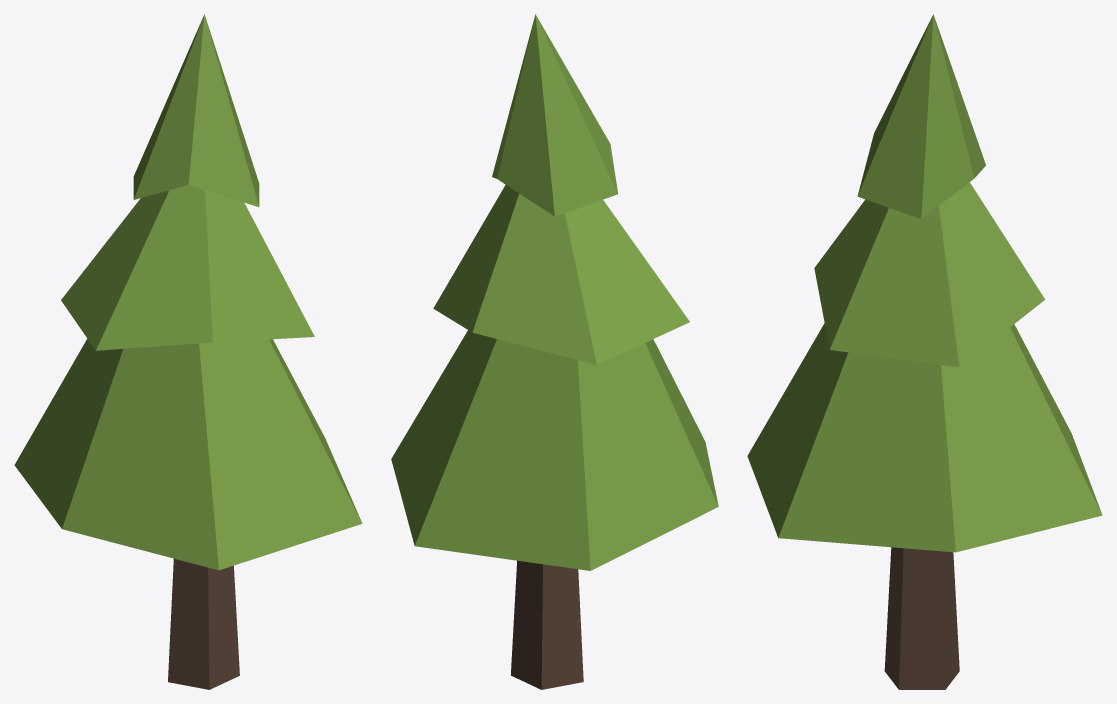
The model's file is TB_Env_Tree_Small_B.FBX.
3 renders of one model, left to right at view 1: azimuth 30°, elevation 25°; view 2: azimuth 150°, elevation 25°; view 3: azimuth 270°, elevation 25°, orthographic.
Visible parts, largest first — view 1: TB_Env_Tree_Small_B; view 2: TB_Env_Tree_Small_B; view 3: TB_Env_Tree_Small_B.
Boxes of the visible parts, left/top/right/bottom form: TB_Env_Tree_Small_B: left=14, top=14, right=362, bottom=689; TB_Env_Tree_Small_B: left=391, top=14, right=718, bottom=689; TB_Env_Tree_Small_B: left=747, top=14, right=1102, bottom=689.
Size of the model in its own units: 2.81 by 5.98 by 2.89.
